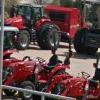Tractor: (4, 2, 74, 60)
